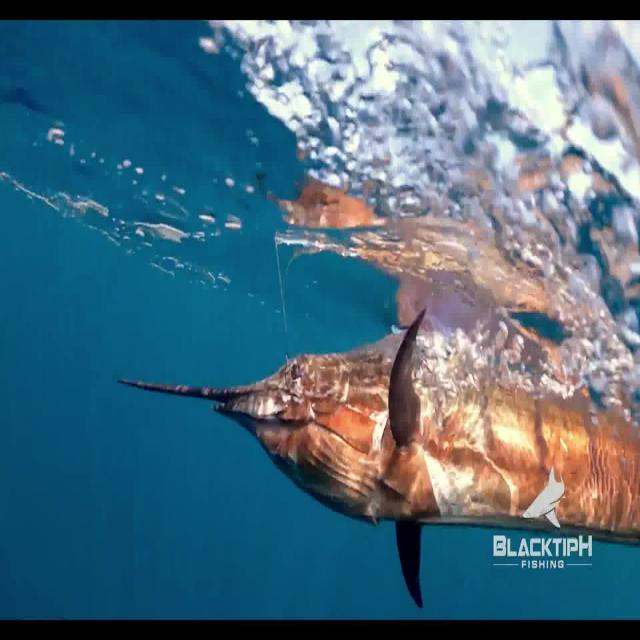Sail Fish: (115, 302, 640, 612)
